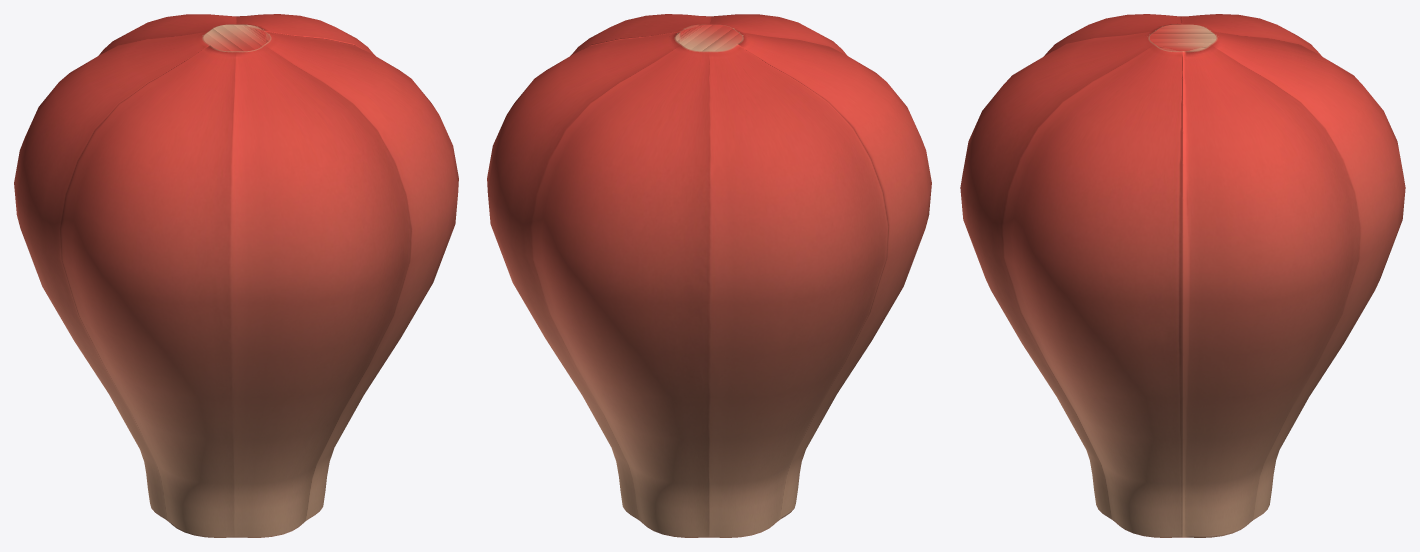
File: real2.gltf
3 views of the same model, side by side, from view 1: azimuth 30°, elevation 25°; view 2: azimuth 150°, elevation 25°; view 3: azimuth 270°, elevation 25° (orthographic).
Visible parts, largest first — view 1: Loft; view 2: Loft; view 3: Loft.
Part boxes in pixels (bbox=[...]): Loft: bbox=[14, 14, 458, 537]; Loft: bbox=[487, 14, 931, 537]; Loft: bbox=[960, 14, 1405, 537].
Bounding box in the file's own units: 691 × 849 × 736.
Materials: 1 (1 with a texture image).
